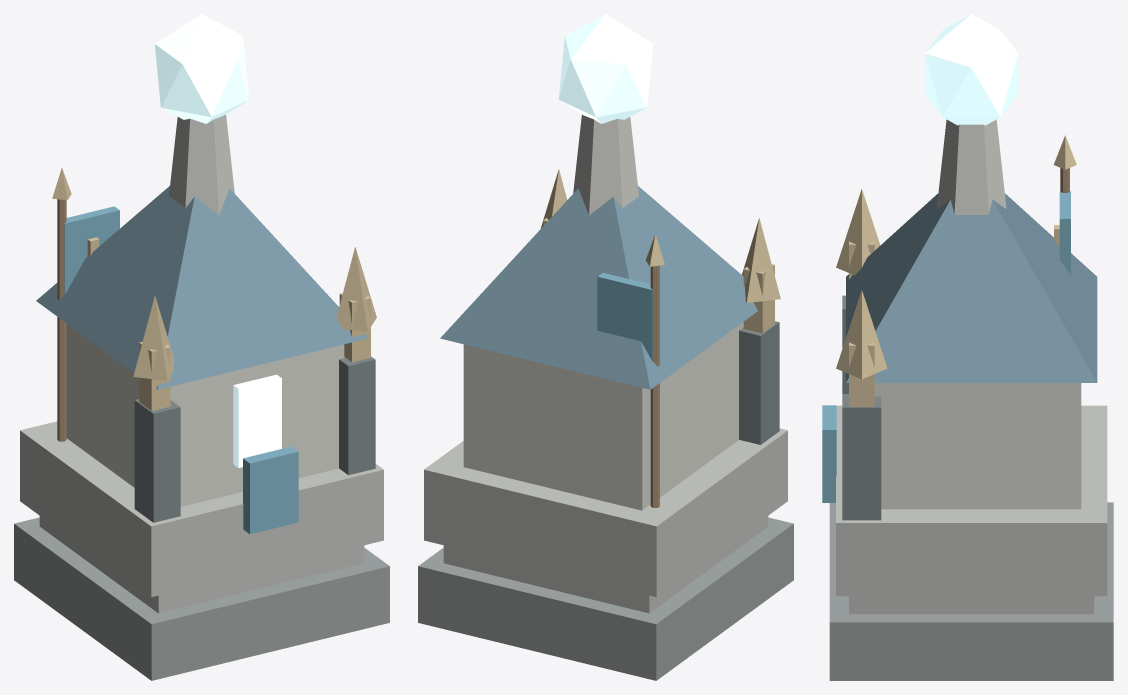
The model's file is human_frost_t5.glb.
3 views of the same model, side by side, from view 1: azimuth 30°, elevation 25°; view 2: azimuth 150°, elevation 25°; view 3: azimuth 270°, elevation 25° (orthographic). The views are drawn at different scales.
Visible parts, largest first — view 1: human_frost_t5_MAT_roof, human_frost_t5_MAT_stone, human_frost_t5_MAT_light, human_frost_t5_MAT_dark, human_frost_t5_MAT_frost, human_frost_t5_MAT_iron, human_frost_t5_MAT_blue, human_frost_t5_MAT_gold, human_frost_t5_MAT_wood; view 2: human_frost_t5_MAT_light, human_frost_t5_MAT_stone, human_frost_t5_MAT_roof, human_frost_t5_MAT_dark, human_frost_t5_MAT_frost, human_frost_t5_MAT_iron, human_frost_t5_MAT_gold, human_frost_t5_MAT_blue, human_frost_t5_MAT_wood; view 3: human_frost_t5_MAT_roof, human_frost_t5_MAT_stone, human_frost_t5_MAT_light, human_frost_t5_MAT_dark, human_frost_t5_MAT_frost, human_frost_t5_MAT_gold, human_frost_t5_MAT_iron, human_frost_t5_MAT_blue.
Boxes of the visible parts, bbox=[...] form: human_frost_t5_MAT_roof: bbox=[36, 186, 367, 389]; human_frost_t5_MAT_stone: bbox=[20, 421, 383, 613]; human_frost_t5_MAT_light: bbox=[66, 114, 344, 506]; human_frost_t5_MAT_dark: bbox=[14, 517, 389, 680]; human_frost_t5_MAT_frost: bbox=[154, 14, 281, 467]; human_frost_t5_MAT_iron: bbox=[134, 356, 375, 522]; human_frost_t5_MAT_blue: bbox=[64, 206, 298, 534]; human_frost_t5_MAT_gold: bbox=[52, 168, 376, 410]; human_frost_t5_MAT_wood: bbox=[57, 199, 66, 441]; human_frost_t5_MAT_light: bbox=[463, 114, 743, 510]; human_frost_t5_MAT_stone: bbox=[424, 428, 787, 613]; human_frost_t5_MAT_roof: bbox=[440, 186, 757, 389]; human_frost_t5_MAT_dark: bbox=[418, 517, 793, 680]; human_frost_t5_MAT_frost: bbox=[558, 14, 653, 123]; human_frost_t5_MAT_iron: bbox=[739, 321, 779, 444]; human_frost_t5_MAT_gold: bbox=[540, 169, 780, 333]; human_frost_t5_MAT_blue: bbox=[597, 272, 652, 361]; human_frost_t5_MAT_wood: bbox=[650, 265, 659, 507]; human_frost_t5_MAT_roof: bbox=[846, 193, 1097, 382]; human_frost_t5_MAT_stone: bbox=[836, 405, 1107, 614]; human_frost_t5_MAT_light: bbox=[874, 119, 1081, 509]; human_frost_t5_MAT_dark: bbox=[829, 502, 1113, 680]; human_frost_t5_MAT_frost: bbox=[925, 14, 1018, 125]; human_frost_t5_MAT_gold: bbox=[836, 135, 1076, 406]; human_frost_t5_MAT_iron: bbox=[842, 295, 881, 520]; human_frost_t5_MAT_blue: bbox=[822, 191, 1070, 502].
Size of the model in its own units: 0.9 by 2.07 by 0.9025.
